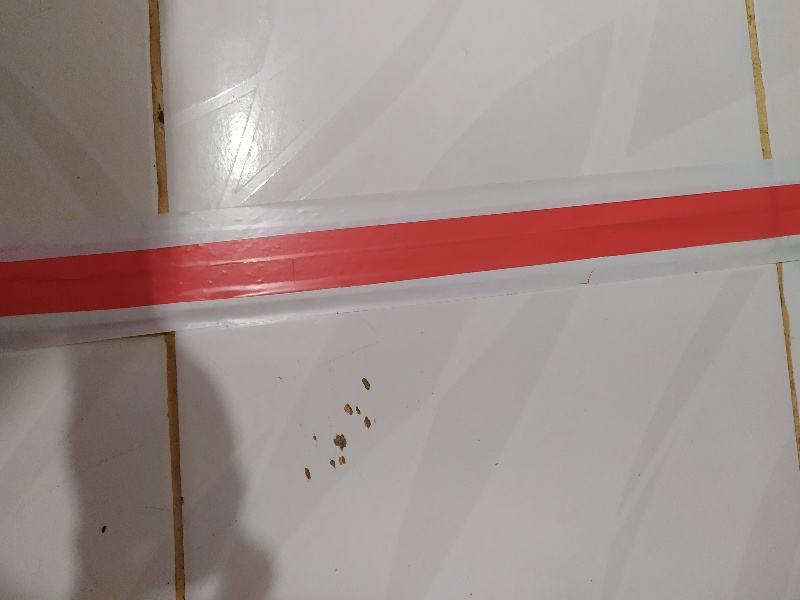reta: (6, 196, 800, 308)
